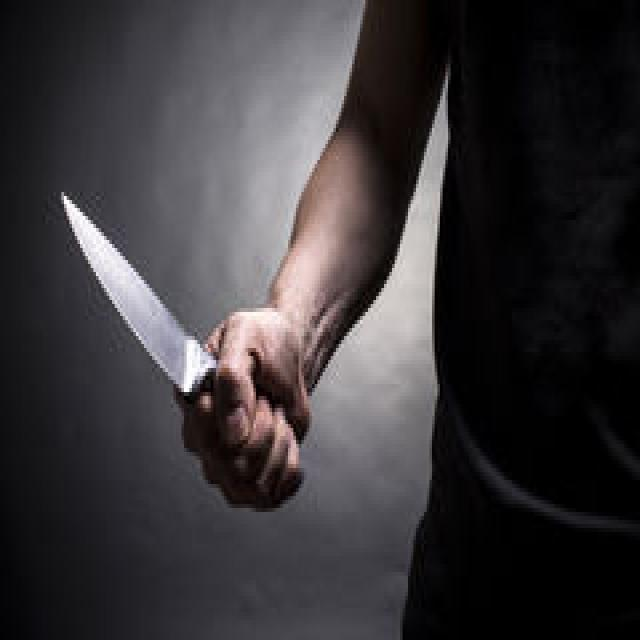knife: (61, 186, 210, 406)
